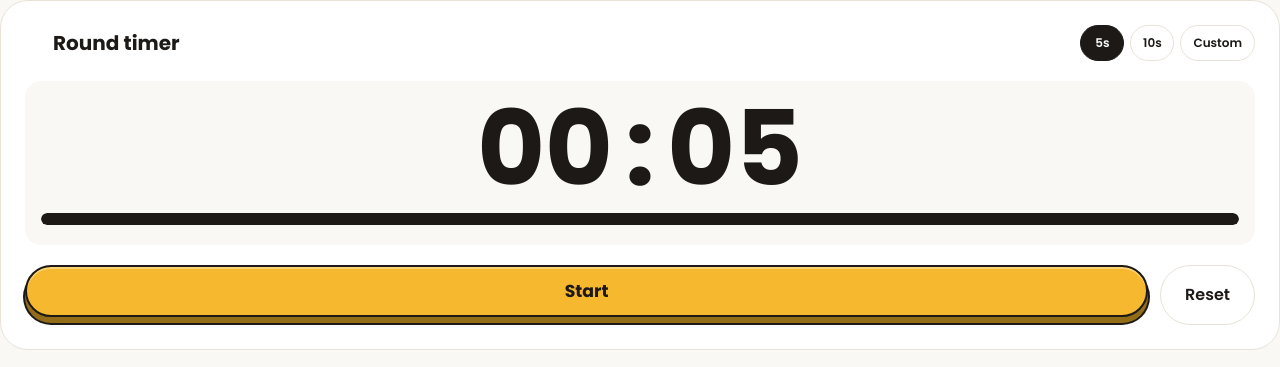
Scenario: Timer › resets an in-progress countdown to the selected duration
This screenshot has width=1280, height=367.
Click the button "10s" at coordinates (1152, 43), box x1=1130 y1=25 x2=1174 y2=61
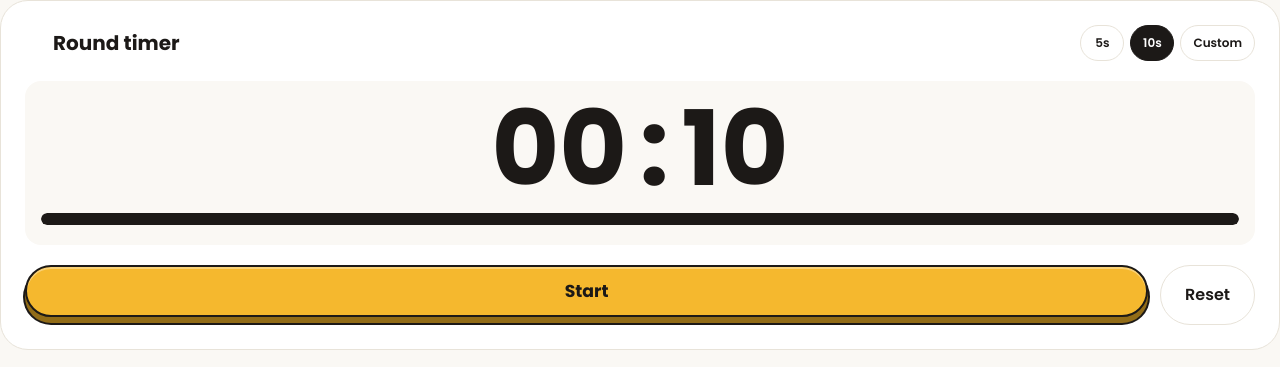
Click the button "Start" at coordinates (587, 291), box x1=25 y1=265 x2=1148 y2=317
Wait 2200 ms
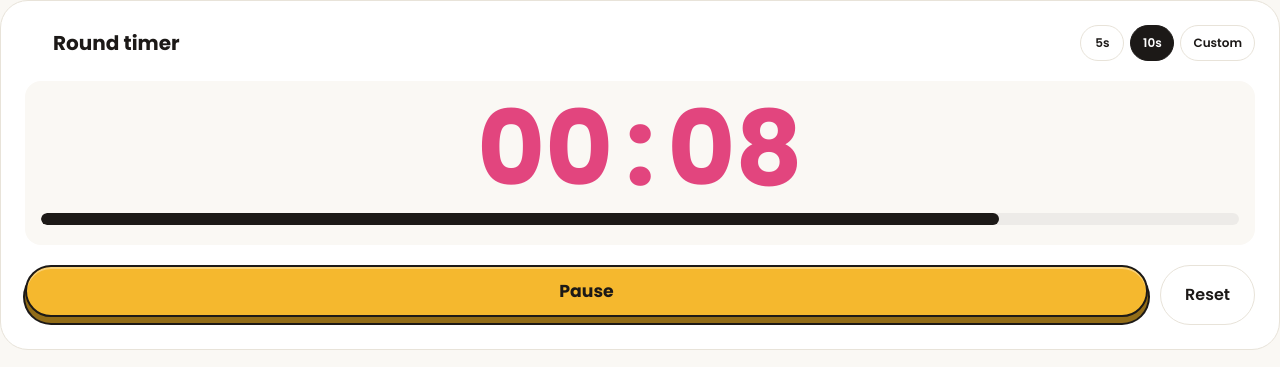
Click the button "Reset" at coordinates (1208, 295), box x1=1160 y1=265 x2=1255 y2=325
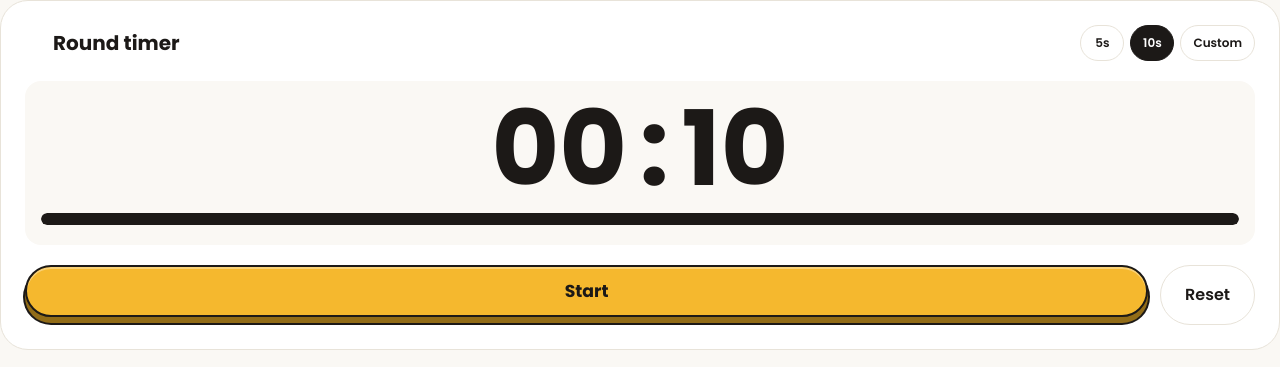
Expected: the button "Start" is shown, x1=25 y1=265 x2=1148 y2=317
